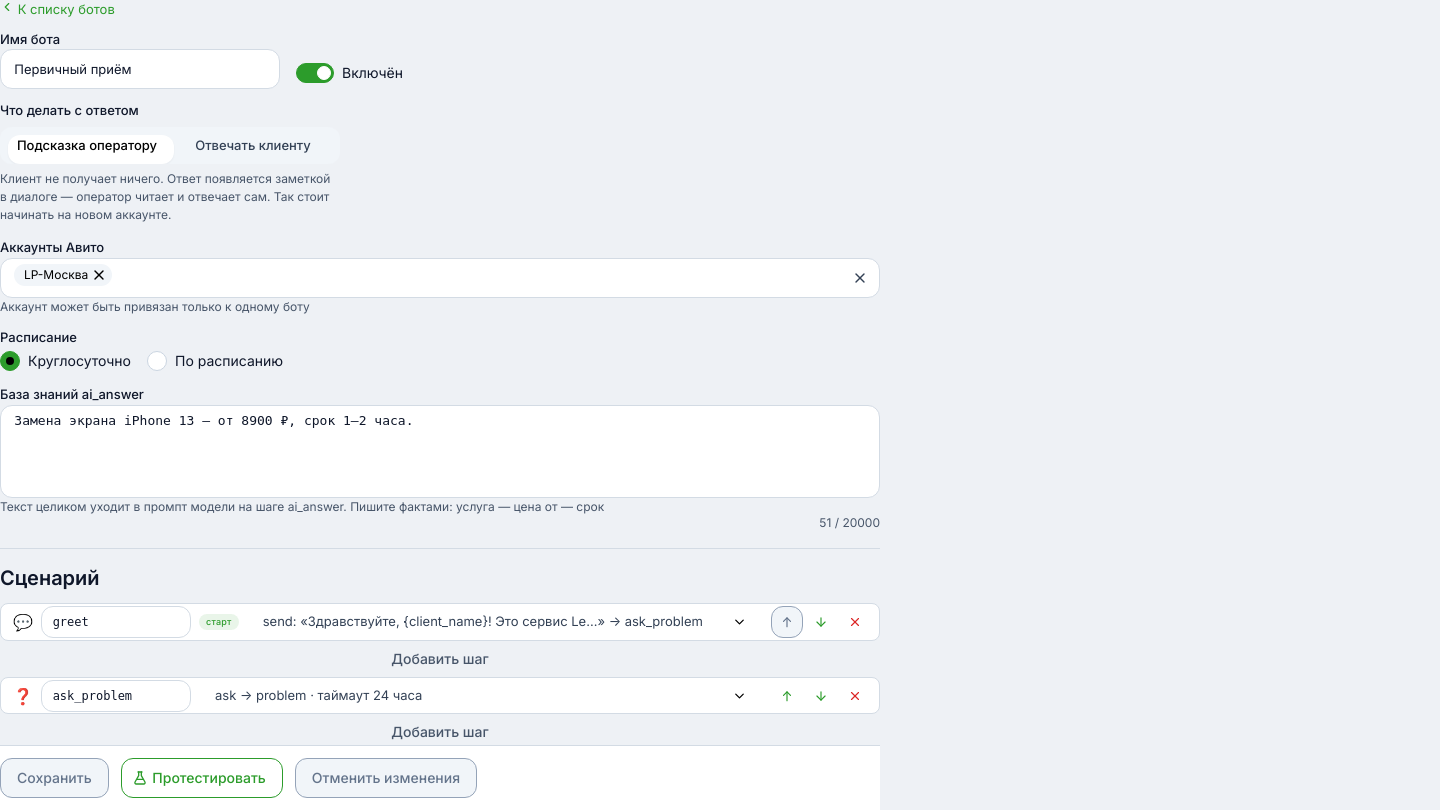
Test: Песочница сценария › «Промотать таймаут» активна в WAITING и доводит сценарий до handoff
Expected: the field labelled "Имя бота" is shown, [0, 49, 280, 89]
Step 1. Click the button "Протестировать" → (202, 778), box [121, 758, 283, 798]
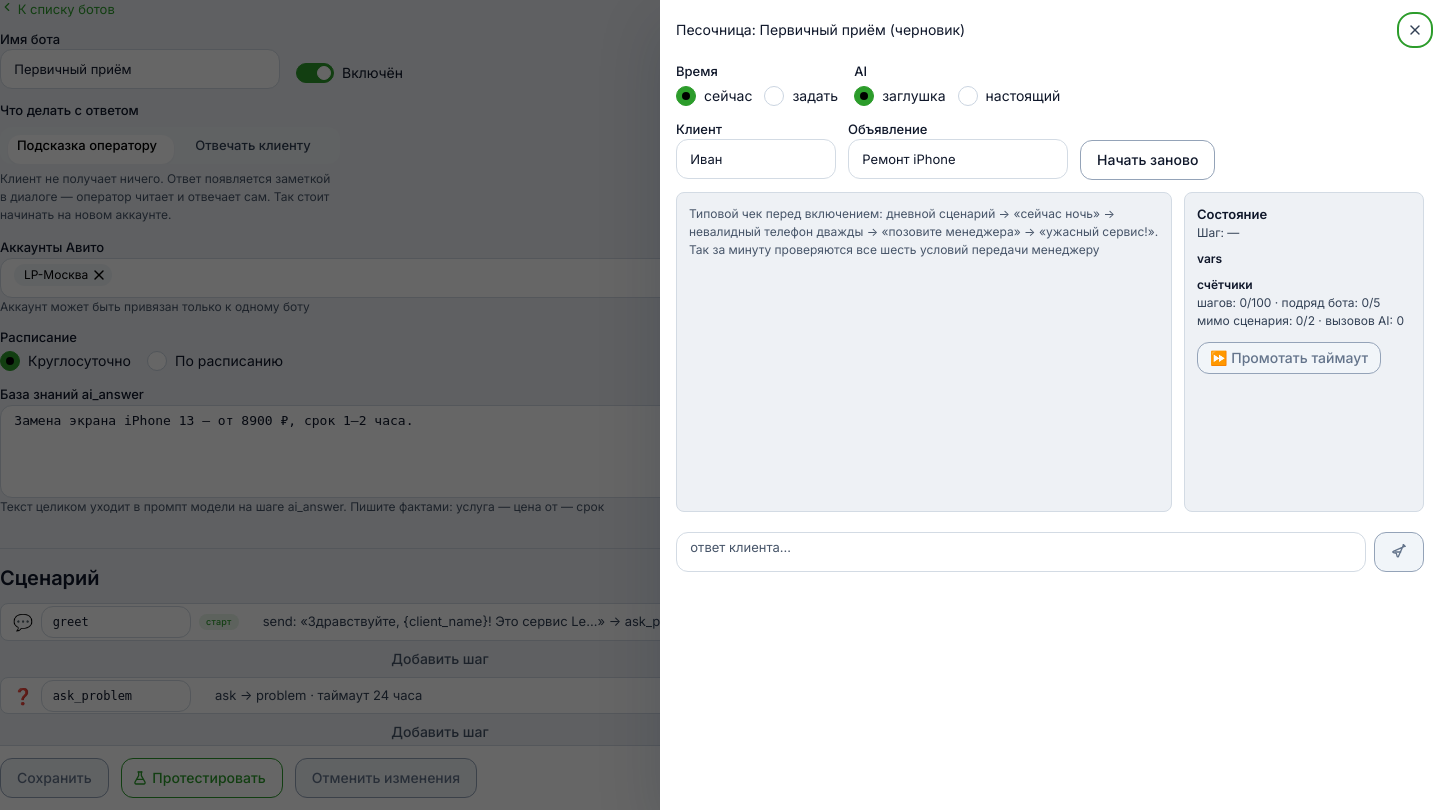
Expected: the text box labelled "ответ клиента" is shown
Expected: the button "⏩ Промотать таймаут" is disabled, [1197, 342, 1381, 374]
Step 2. Type "разбил экран айфона" into the text box labelled "ответ клиента" → (1021, 552), box [676, 532, 1366, 572]
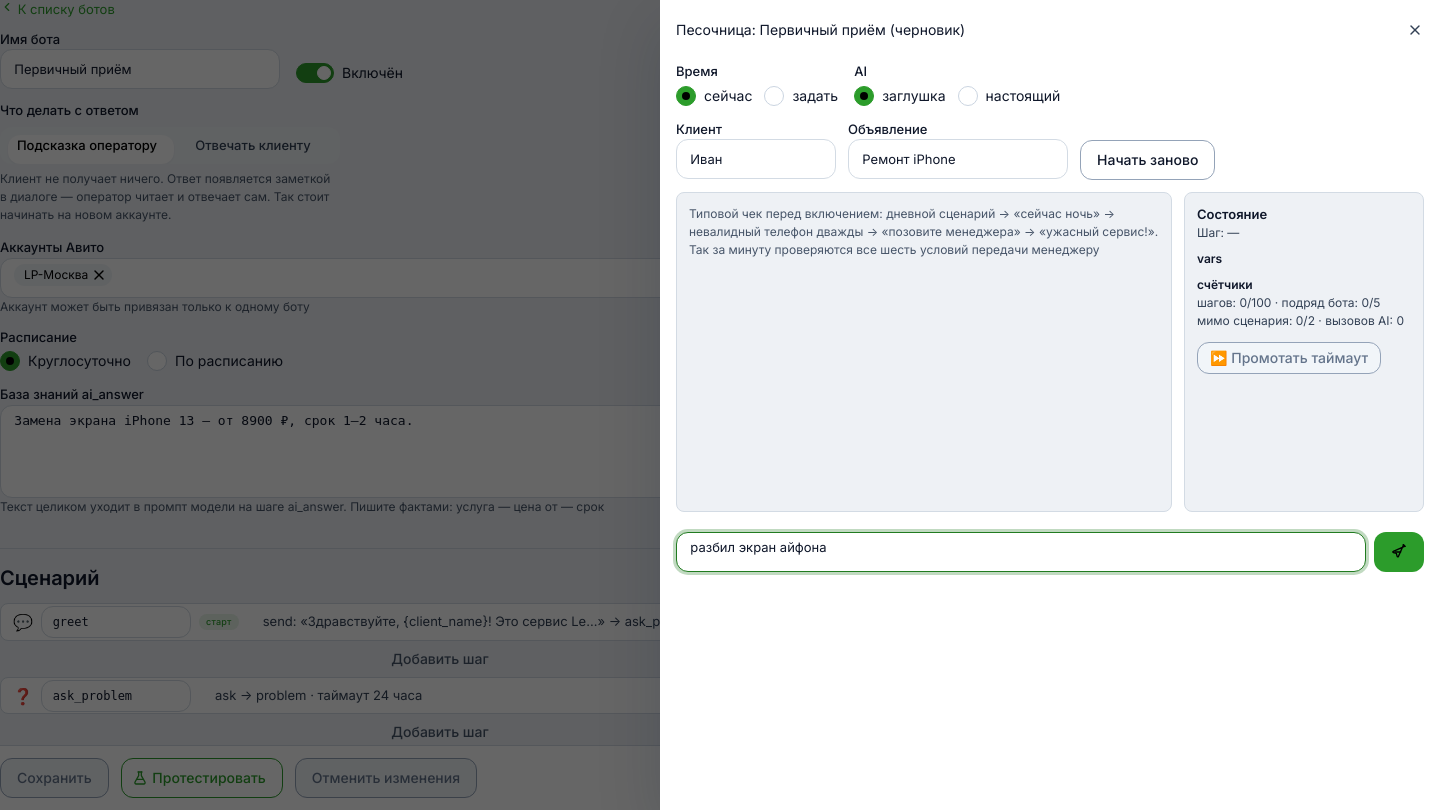
Step 3. Click the button named "Отправить ответ клиента" → (1399, 552), box [1374, 532, 1424, 572]
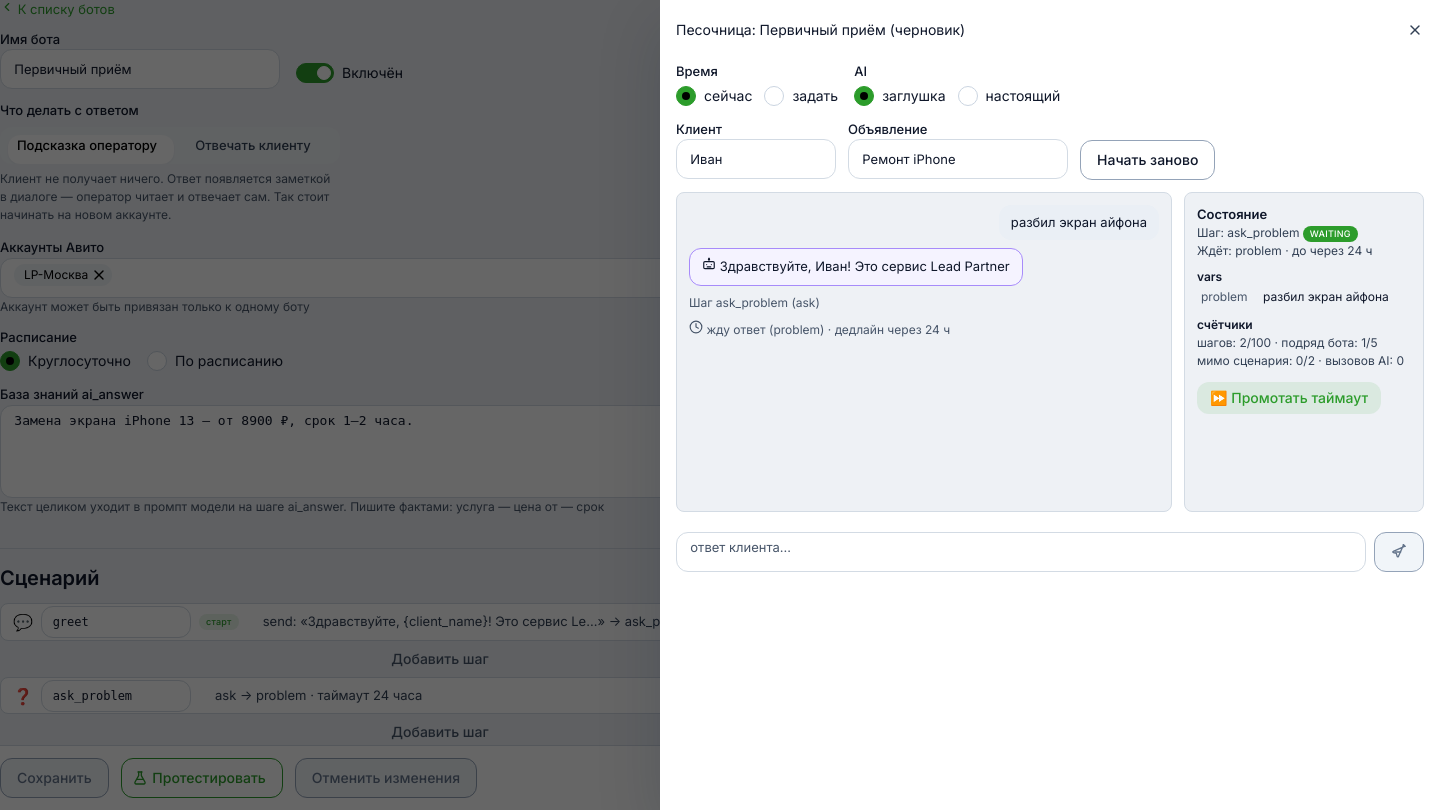
Expected: the button "⏩ Промотать таймаут" is enabled
Step 4. Click the button "⏩ Промотать таймаут" → (1289, 398), box [1197, 382, 1381, 414]
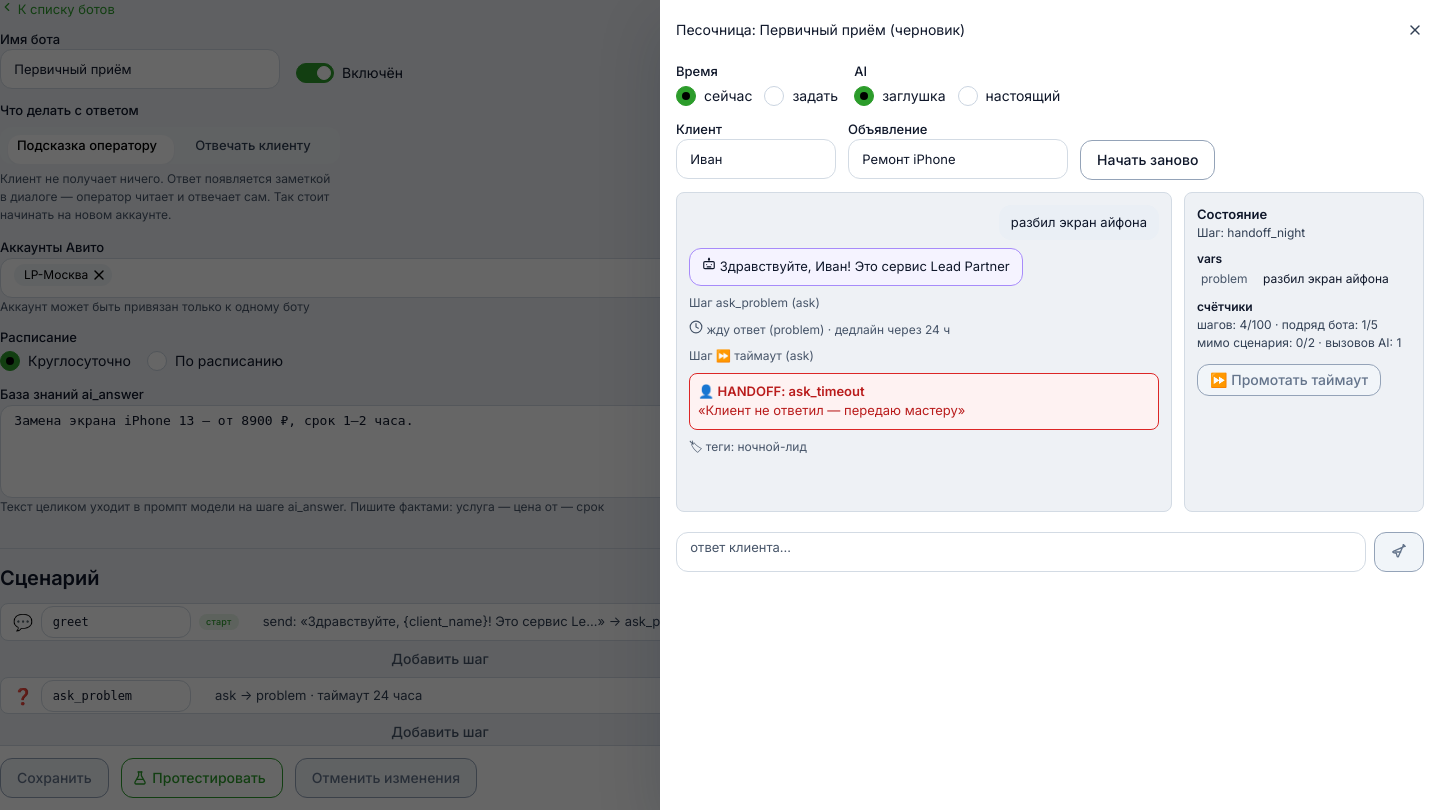
Expected: the element with test id "sandbox-chat" shows "HANDOFF: ask_timeout", [676, 192, 1172, 512]
Expected: the element with test id "sandbox-chat" shows "Клиент не ответил — передаю мастеру", [706, 402, 958, 418]
Expected: the element with class "sandbox-state" shows "handoff_night", [1227, 225, 1305, 240]
